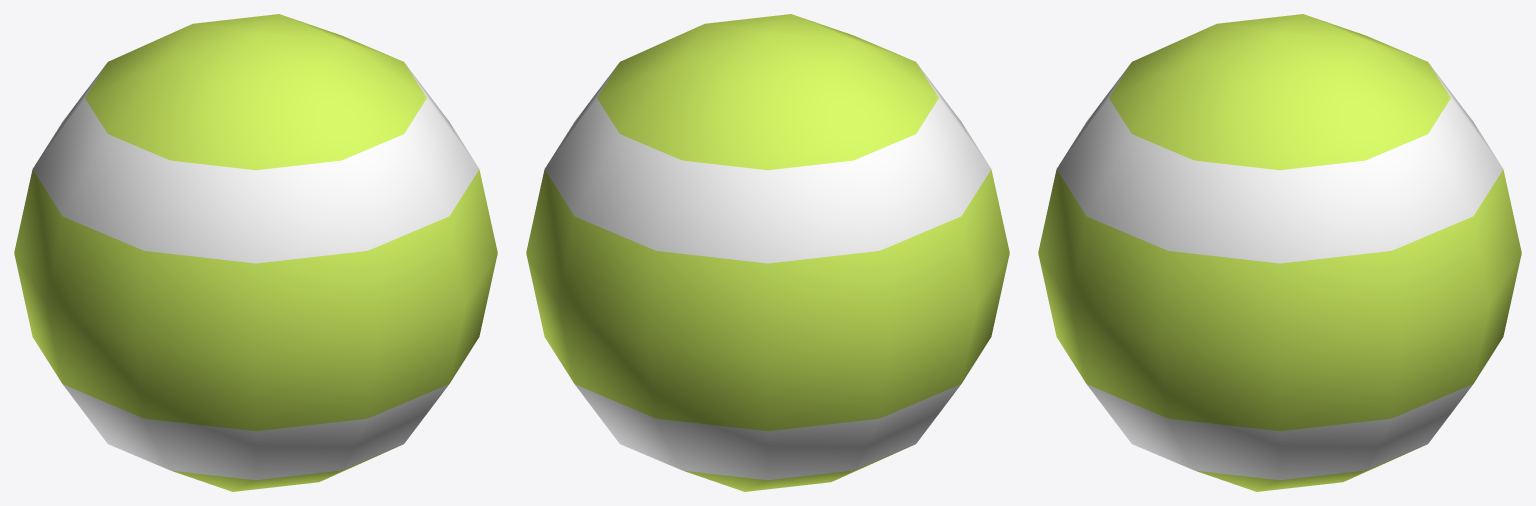
The model's file is Ball01.glb.
The picture shows the model from 3 angles, left to right: view 1: azimuth 30°, elevation 25°; view 2: azimuth 150°, elevation 25°; view 3: azimuth 270°, elevation 25°; orthographic projection.
Visible parts, largest first — view 1: Ball01; view 2: Ball01; view 3: Ball01.
Part boxes in pixels (x1,y1,x2,y2): Ball01: [14, 14, 497, 491]; Ball01: [526, 14, 1009, 491]; Ball01: [1038, 14, 1521, 491].
Bounding box in the file's own units: 0.1204 × 0.1204 × 0.1204.
Materials: 1 (1 with a texture image).
